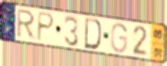2: (132, 25, 148, 57)
3: (63, 14, 79, 48)
D: (84, 17, 103, 51)
G: (109, 22, 128, 55)
P: (35, 11, 56, 43)
R: (15, 9, 37, 41)
